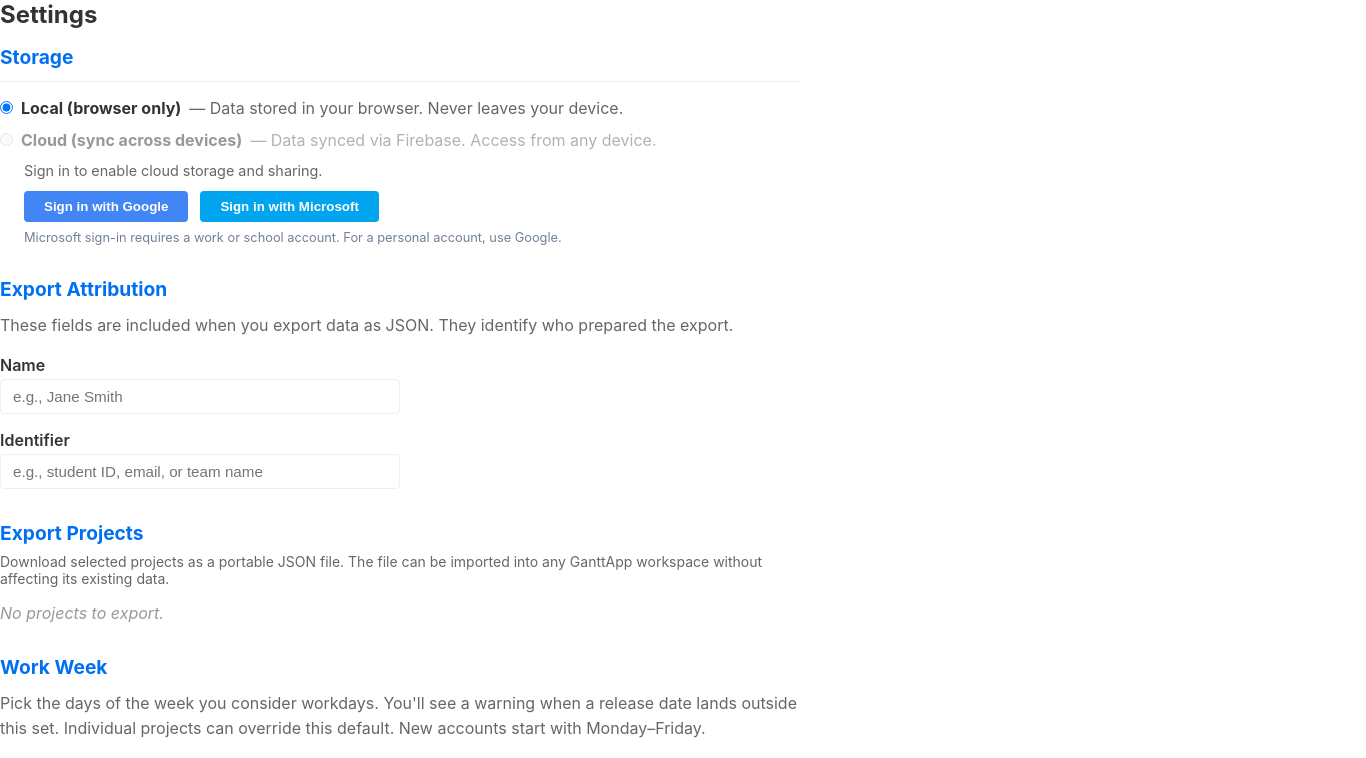
Test: SettingsTab wiring › signing in › opens the terms dialog instead of signing in when the terms have not been accepted
Click the button "Sign in with Google": click(106, 206) [24,191,188,222]
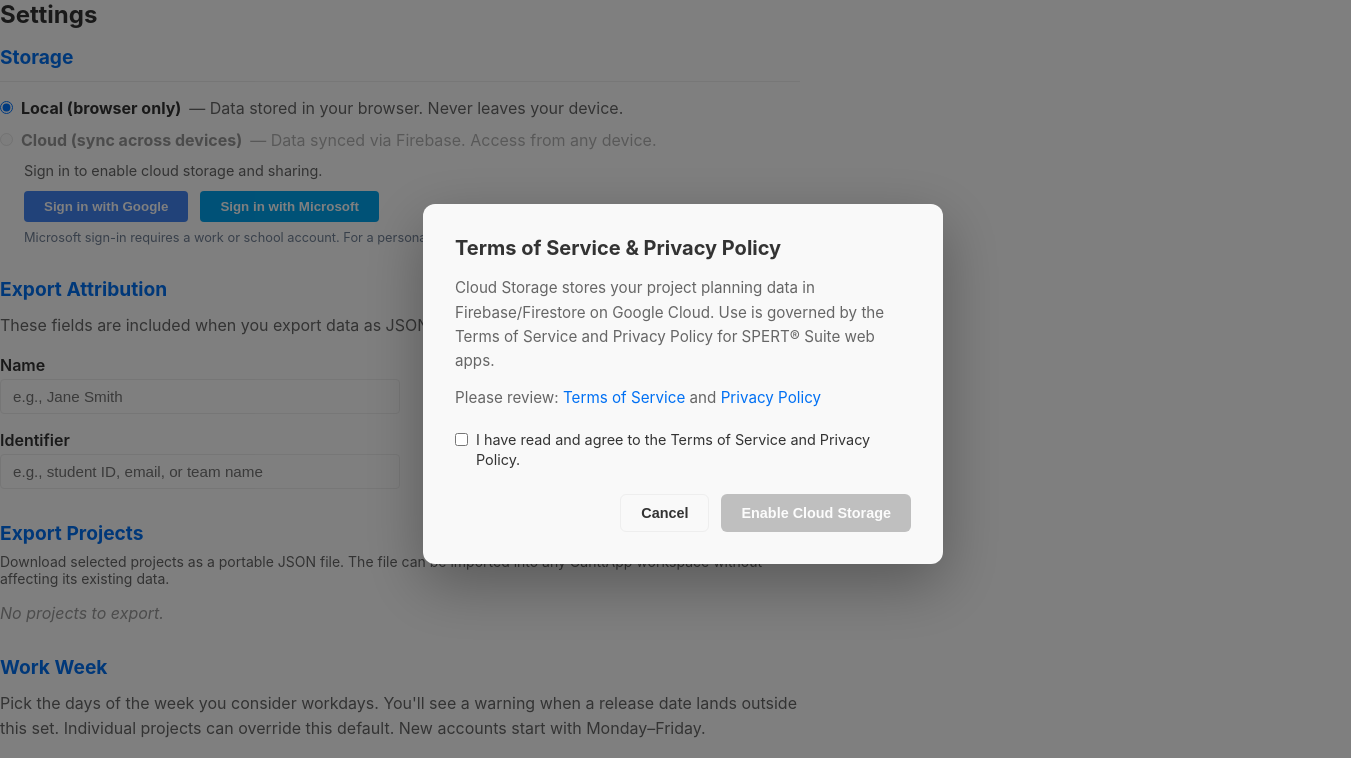
Expected: the heading "Terms of Service & Privacy Policy" is shown, [455,236,781,260]
